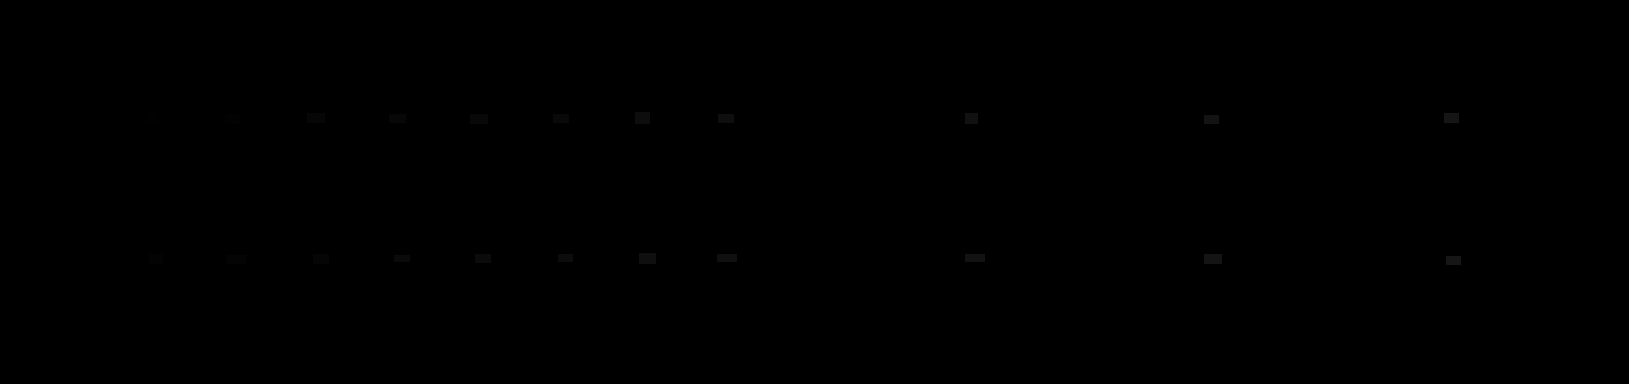light: (308, 113, 325, 124), (635, 112, 650, 124), (470, 114, 488, 124), (639, 253, 656, 264), (389, 114, 406, 124), (1204, 254, 1222, 264), (226, 255, 246, 264), (313, 254, 329, 264), (553, 114, 569, 124), (718, 114, 735, 124), (1444, 113, 1459, 124), (225, 114, 241, 124), (717, 254, 737, 262), (965, 254, 985, 262), (475, 254, 491, 263), (149, 254, 163, 264), (965, 113, 978, 124), (1204, 115, 1219, 124), (1446, 256, 1461, 265), (146, 113, 158, 124), (558, 254, 573, 262), (394, 255, 410, 262)
